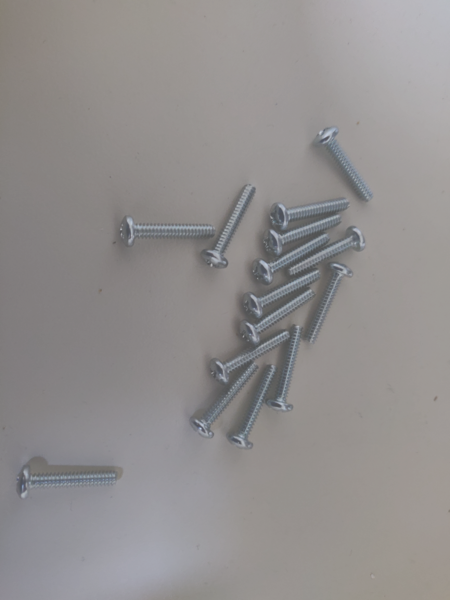longscrew: (189, 363, 261, 440), (319, 126, 376, 204), (230, 362, 281, 449), (205, 184, 257, 268), (304, 267, 356, 348), (252, 233, 331, 285), (215, 330, 290, 384), (240, 291, 314, 345), (289, 229, 372, 277), (240, 269, 323, 317), (269, 324, 309, 416), (115, 212, 219, 246), (16, 467, 118, 499), (264, 216, 344, 254), (270, 191, 351, 227)
